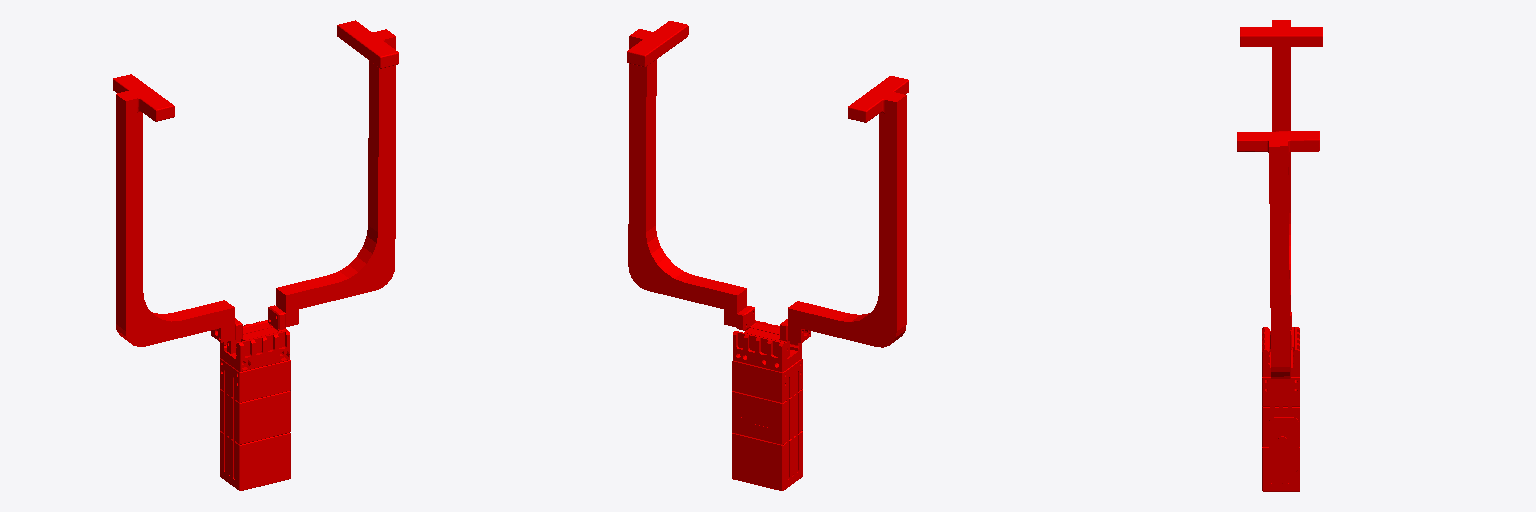
The robot description file, URDF, robot "schunk_25nnb":
<?xml version="1.0" encoding="utf-8"?>
<!-- This URDF was automatically created by SolidWorks to URDF Exporter! Originally created by [author] ([email redacted]) 
     Commit Version: 1.6.0-4-g7f85cfe  Build Version: 1.6.7995.38578
     For more information, please see http://wiki.ros.org/sw_urdf_exporter -->
<robot
  name="schunk_25nnb">
  <link
    name="base_link">
    <inertial>
      <origin
        xyz="-0.000798709905497759 0.0330041725900681 0.000181924965941612"
        rpy="0 0 0" />
      <mass
        value="3.08428949350963E-05" />
      <inertia
        ixx="1.21752033814272E-08"
        ixy="-1.76830031372158E-12"
        ixz="3.1179861790657E-13"
        iyy="2.61959369553983E-09"
        iyz="6.34798469366256E-12"
        izz="1.30729118706546E-08" />
    </inertial>
    <visual>
      <origin
        xyz="0 0 0"
        rpy="0 0 0" />
      <geometry>
        <mesh
          filename="package://schunk_25nnb/meshes/base_link.STL" />
      </geometry>
      <material
        name="">
        <color
          rgba="1 0 0 1" />
      </material>
    </visual>
    <collision>
      <origin
        xyz="0 0 0"
        rpy="0 0 0" />
      <geometry>
        <mesh
          filename="package://schunk_25nnb/meshes/base_link.STL" />
      </geometry>
    </collision>
  </link>
  <link
    name="left_link">
    <inertial>
      <origin
        xyz="0.0054865 -0.0099792 0.0019878"
        rpy="0 0 0" />
      <mass
        value="9.1881E-07" />
      <inertia
        ixx="2.3947E-11"
        ixy="-1.4195E-11"
        ixz="4.575E-12"
        iyy="4.2053E-11"
        iyz="4.362E-12"
        izz="5.6785E-11" />
    </inertial>
    <visual>
      <origin
        xyz="0 0 0"
        rpy="0 0 0" />
      <geometry>
        <mesh
          filename="package://schunk_25nnb/meshes/left_link.STL" />
      </geometry>
      <material
        name="">
        <color
          rgba="1 0 0 1" />
      </material>
    </visual>
    <collision>
      <origin
        xyz="0 0 0"
        rpy="0 0 0" />
      <geometry>
        <mesh
          filename="package://schunk_25nnb/meshes/left_link.STL" />
      </geometry>
    </collision>
  </link>
  <joint
    name="joint_left"
    type="prismatic">
    <origin
      xyz="0 -8.2944E-05 0.08056"
      rpy="1.5708 0 -3.1416" />
    <parent
      link="base_link" />
    <child
      link="left_link" />
    <axis
      xyz="1 0 0" />
    <limit
      lower="-0.0047"
      upper="1E-05"
      effort="20"
      velocity="2" />
  </joint>
  <link
    name="right_link">
    <inertial>
      <origin
        xyz="0.0039401 -0.0099792 0.0021878"
        rpy="0 0 0" />
      <mass
        value="9.1881E-07" />
      <inertia
        ixx="2.3947E-11"
        ixy="-1.4195E-11"
        ixz="4.575E-12"
        iyy="4.2053E-11"
        iyz="4.362E-12"
        izz="5.6785E-11" />
    </inertial>
    <visual>
      <origin
        xyz="0 0 0"
        rpy="0 0 0" />
      <geometry>
        <mesh
          filename="package://schunk_25nnb/meshes/right_link.STL" />
      </geometry>
      <material
        name="">
        <color
          rgba="1 0 0 1" />
      </material>
    </visual>
    <collision>
      <origin
        xyz="0 0 0"
        rpy="0 0 0" />
      <geometry>
        <mesh
          filename="package://schunk_25nnb/meshes/right_link.STL" />
      </geometry>
    </collision>
  </link>
  <joint
    name="joint_right"
    type="prismatic">
    <origin
      xyz="0 -8.2944E-05 0.08056"
      rpy="1.5708 0 0" />
    <parent
      link="base_link" />
    <child
      link="right_link" />
    <axis
      xyz="1 0 0" />
    <limit
      lower="-0.0047"
      upper="1E-05"
      effort="20"
      velocity="2" />
  </joint>
</robot>

--- Render facts (derived) ---
The picture shows the robot from 3 angles, left to right: view 1: azimuth 30°, elevation 25°; view 2: azimuth 150°, elevation 25°; view 3: azimuth 270°, elevation 25°; orthographic projection.
Robot: schunk_25nnb — 3 links, 2 joints (2 prismatic); root link base_link; default pose: every joint at zero.
Links seen in each view (by area): view 1: right_link, left_link, base_link; view 2: left_link, right_link, base_link; view 3: right_link, base_link, left_link.
Boxes of the visible links, x1=… form: right_link: x1=241, y1=20, x2=398, y2=341; left_link: x1=113, y1=74, x2=271, y2=353; base_link: x1=220, y1=320, x2=290, y2=490; left_link: x1=744, y1=76, x2=908, y2=357; right_link: x1=627, y1=21, x2=779, y2=334; base_link: x1=732, y1=320, x2=802, y2=490; right_link: x1=1237, y1=131, x2=1319, y2=378; base_link: x1=1262, y1=327, x2=1299, y2=491; left_link: x1=1240, y1=20, x2=1322, y2=347.
Size in the robot's own frame: 0.1392 by 0.0403 by 0.2043 metres.
Meshes: 3 distinct files referenced, 3 mesh visuals loaded (3 binary STL).